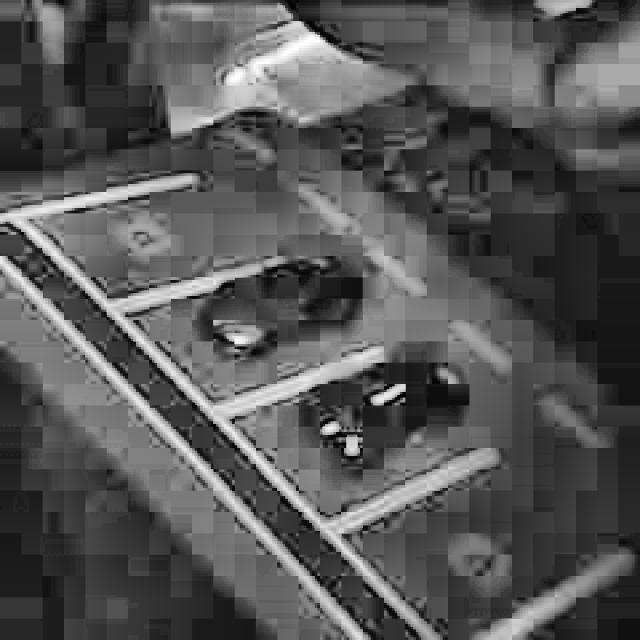car: (294, 354, 486, 486), (187, 236, 365, 359)
